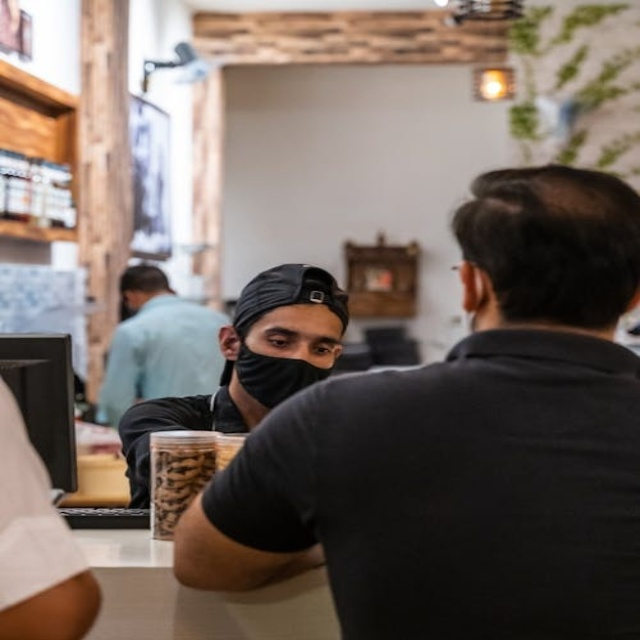Mascara: (231, 339, 335, 413), (120, 297, 137, 321)
Sin_gafas: (255, 318, 342, 359)
